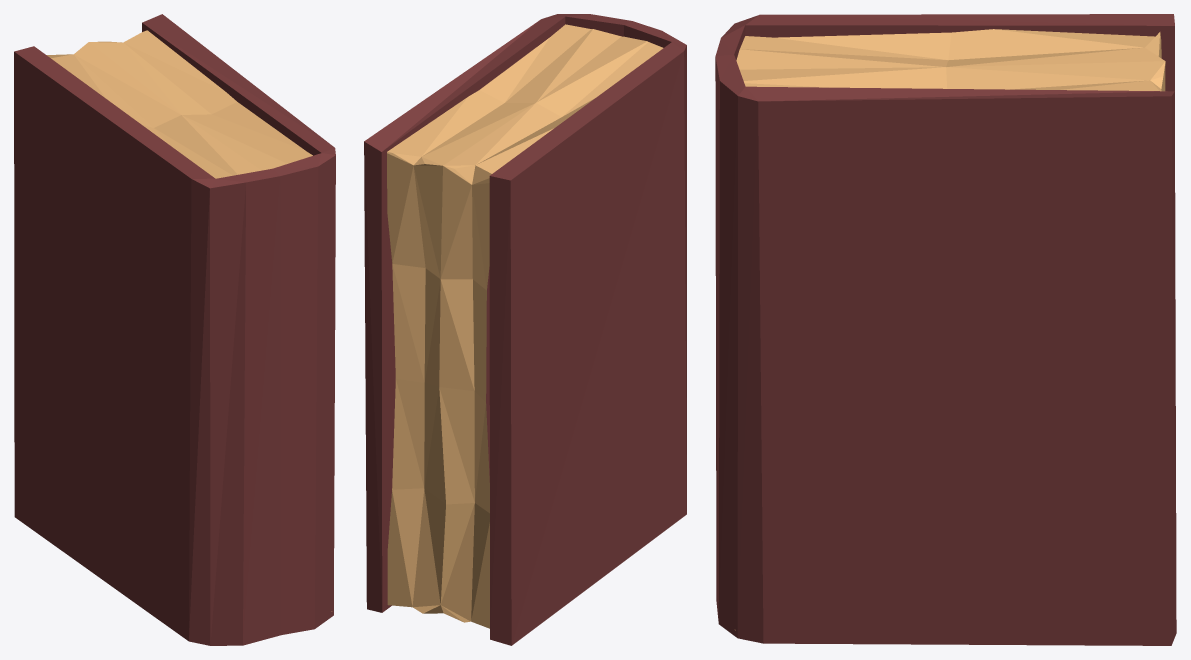
File: Book_004.fbx
The picture shows the model from 3 angles, left to right: view 1: azimuth 30°, elevation 25°; view 2: azimuth 150°, elevation 25°; view 3: azimuth 270°, elevation 25°; orthographic projection. The views are drawn at different scales.
Parts seen in each view (by area): view 1: Book_004; view 2: Book_004; view 3: Book_004.
Part boxes in pixels (box(x1,y1,x2,y2)): Book_004: box(14, 14, 335, 645); Book_004: box(364, 14, 686, 645); Book_004: box(715, 14, 1176, 645).
Size of the model in its own units: 0.1047 by 0.3164 by 0.2392.
